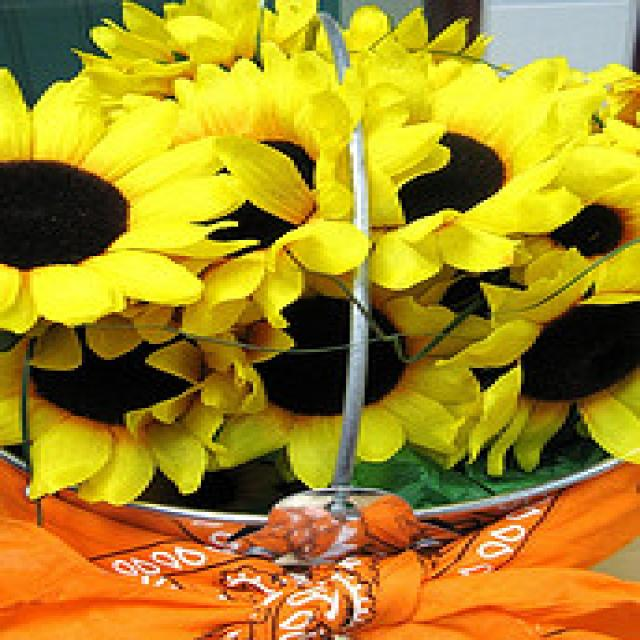sunflower: (200, 270, 473, 484), (0, 66, 223, 315), (173, 65, 354, 331), (0, 306, 223, 509), (373, 70, 558, 286), (459, 260, 640, 476)
